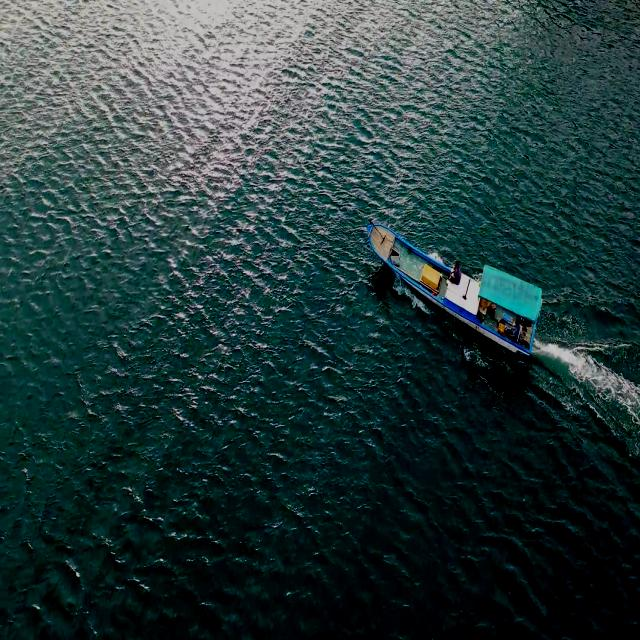ship: (367, 208, 541, 356)
